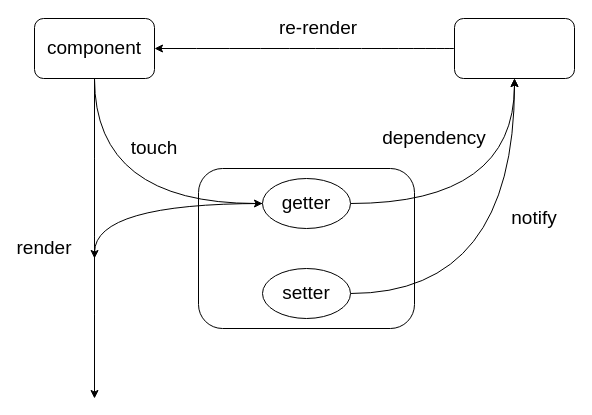
Some shapes in this 592 by 415 pixel diagram are drawn without their labels. The shapes that lost their labels are listed below. From the top down, each one's box as (x1, y1, x2, y2) in pixels, then its label:
(454, 18, 574, 78): watcher
(198, 168, 414, 328): data
